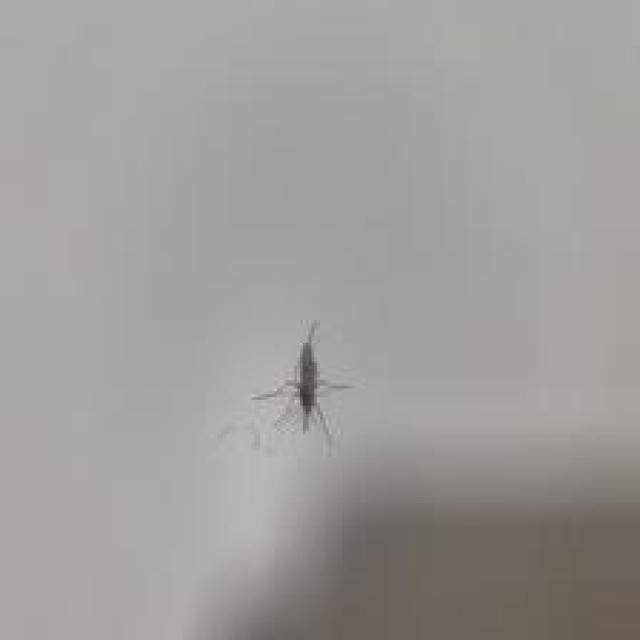Culex: (250, 319, 353, 447)
